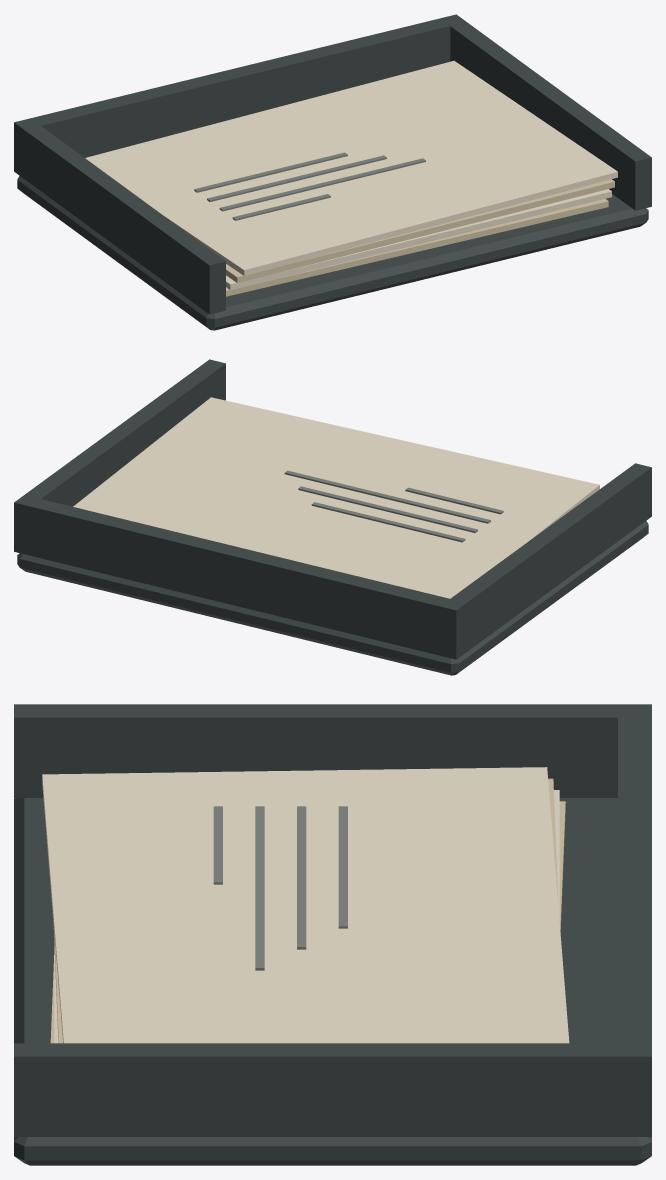
The model's file is Bell_PaperTray.fbx.
3 views of the same model, one above another, from view 1: azimuth 30°, elevation 25°; view 2: azimuth 150°, elevation 25°; view 3: azimuth 270°, elevation 25° (orthographic). The views are drawn at different scales.
Visible parts, largest first — view 1: Bell_PaperTray; view 2: Bell_PaperTray; view 3: Bell_PaperTray.
Boxes of the visible parts, bbox=[...] form: Bell_PaperTray: bbox=[14, 14, 651, 330]; Bell_PaperTray: bbox=[14, 359, 651, 675]; Bell_PaperTray: bbox=[14, 704, 651, 1165].
Size of the model in its own units: 0.32 by 0.048 by 0.245.
